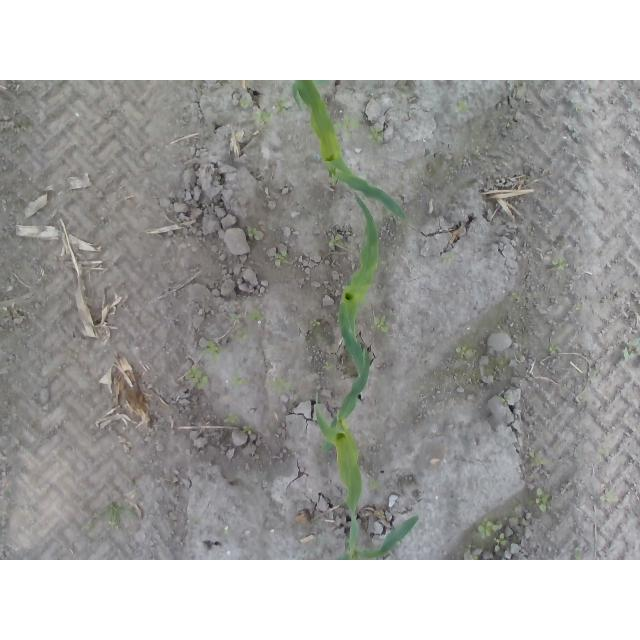Maize: (293, 82, 410, 223), (316, 346, 369, 516), (339, 191, 379, 381), (341, 510, 420, 560)
Weeds: (86, 504, 134, 532), (184, 366, 210, 390), (332, 116, 358, 137), (476, 519, 501, 539), (623, 337, 640, 362), (271, 249, 291, 268), (266, 379, 292, 393), (205, 340, 223, 360), (529, 451, 549, 469), (535, 488, 549, 512), (367, 126, 385, 142), (372, 314, 387, 333), (599, 490, 618, 505), (456, 345, 476, 359), (328, 234, 345, 250), (272, 99, 290, 114), (253, 109, 272, 123), (248, 313, 264, 328), (495, 534, 508, 551), (246, 227, 259, 242), (552, 258, 568, 270), (456, 100, 469, 114), (442, 251, 456, 264), (235, 330, 249, 342), (226, 414, 238, 426), (233, 376, 243, 389), (549, 346, 563, 355), (240, 97, 250, 109), (575, 548, 584, 561), (230, 314, 241, 324), (243, 424, 253, 435), (312, 318, 321, 328), (323, 361, 333, 370), (574, 103, 583, 110)
